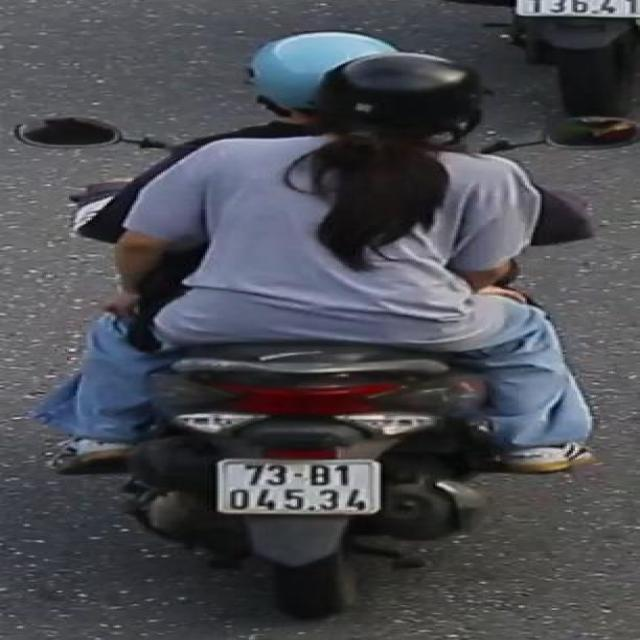LP: (208, 454, 390, 520)
helmet: (324, 49, 500, 152), (236, 26, 400, 130)
